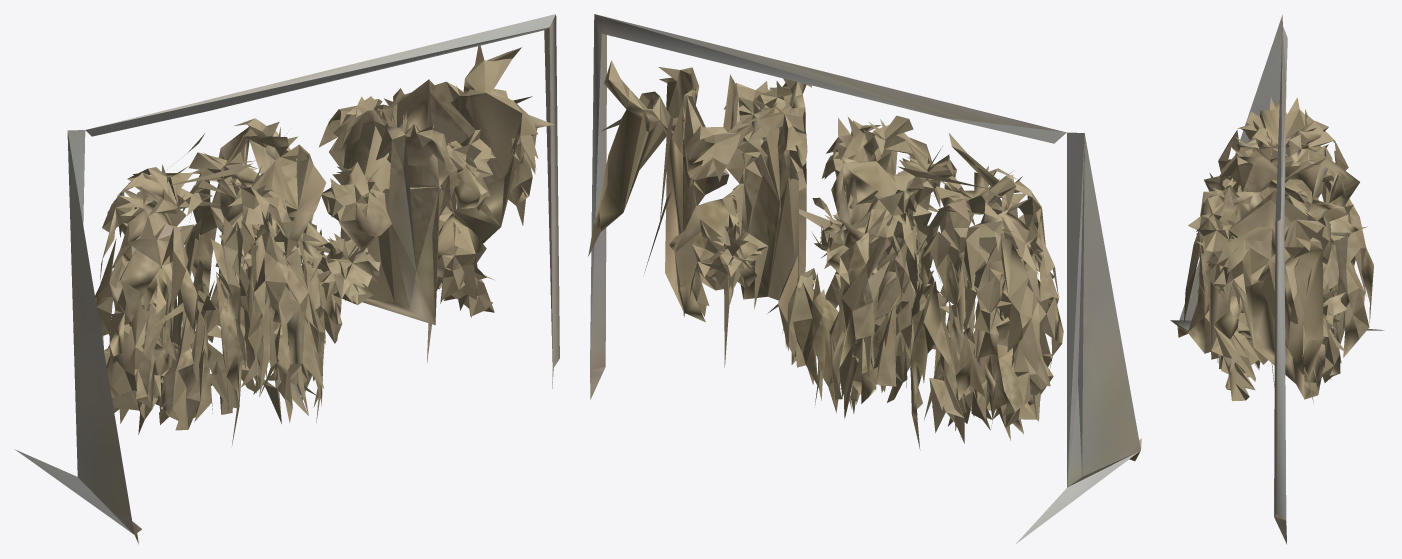
The model's file is fv_costume_rack.lod1.glb.
3 renders of one model, left to right at view 1: azimuth 30°, elevation 25°; view 2: azimuth 150°, elevation 25°; view 3: azimuth 270°, elevation 25°, orthographic. The views are drawn at different scales.
Visible parts, largest first — view 1: fv_costume_rack; view 2: fv_costume_rack; view 3: fv_costume_rack.
Part boxes in pixels (<box>): fv_costume_rack: <box>14,14,559,544</box>; fv_costume_rack: <box>588,14,1141,543</box>; fv_costume_rack: <box>1170,15,1384,543</box>.
Size of the model in its own units: 1.9 by 1.42 by 0.8547.
Materials: 1 (1 with a texture image).
